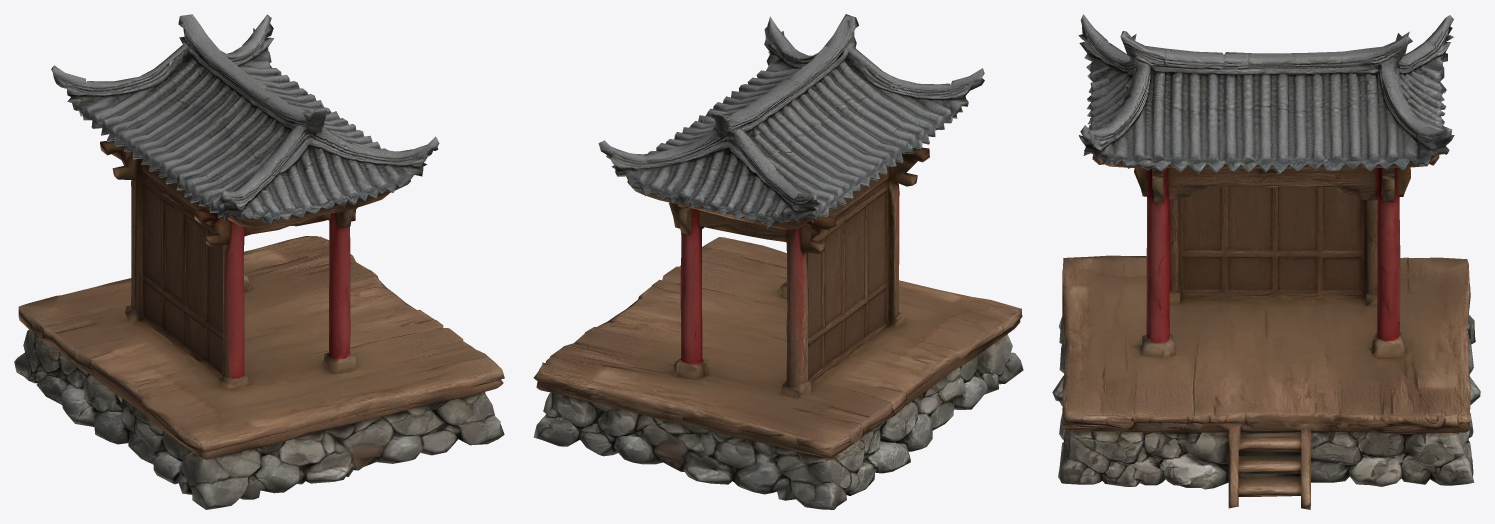
Rendered from v-stage.glb.
The picture shows the model from 3 angles, left to right: view 1: azimuth 30°, elevation 25°; view 2: azimuth 150°, elevation 25°; view 3: azimuth 270°, elevation 25°; orthographic projection. The views are drawn at different scales.
Parts seen in each view (by area): view 1: tripo_node_3232718a-69b7-4295-b302-5e96483afc8b; view 2: tripo_node_3232718a-69b7-4295-b302-5e96483afc8b; view 3: tripo_node_3232718a-69b7-4295-b302-5e96483afc8b.
Part boxes in pixels (x1,y1,x2,y2): tripo_node_3232718a-69b7-4295-b302-5e96483afc8b: (14,14,504,509); tripo_node_3232718a-69b7-4295-b302-5e96483afc8b: (533,14,1023,509); tripo_node_3232718a-69b7-4295-b302-5e96483afc8b: (1052,14,1480,509).
Size of the model in its own units: 1 by 0.9353 by 0.9733.
Materials: 1 (1 with a texture image).
